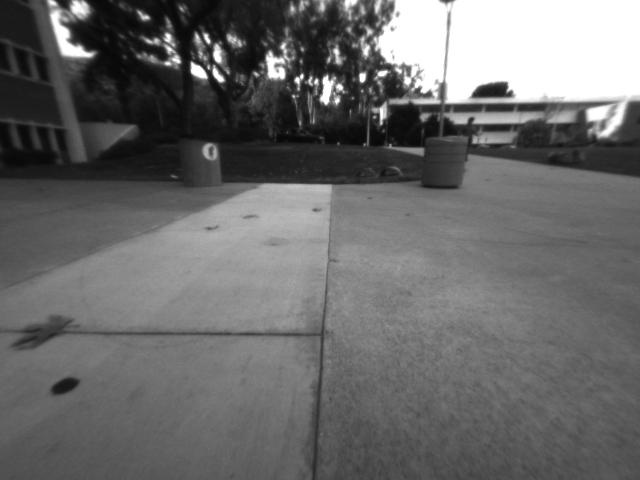trashcan: (171, 126, 228, 191), (416, 130, 471, 197)
